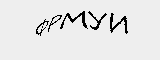И: (110, 14, 132, 37)
М: (61, 7, 90, 33)
Р: (47, 12, 64, 33)
У: (88, 11, 106, 32)
Ф: (35, 17, 48, 37)
